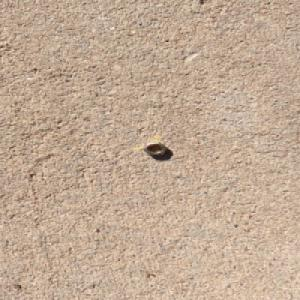Nut: (142, 141, 168, 156)
